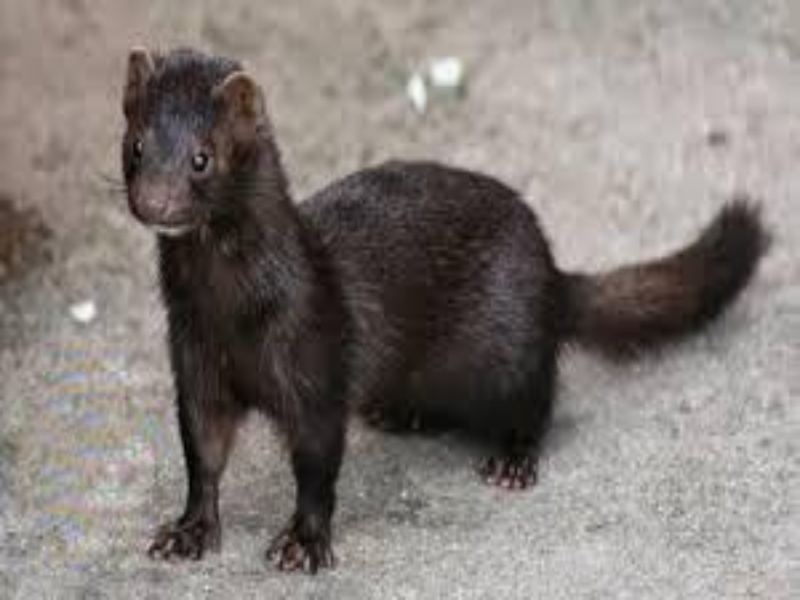minkish: (117, 39, 771, 577)
